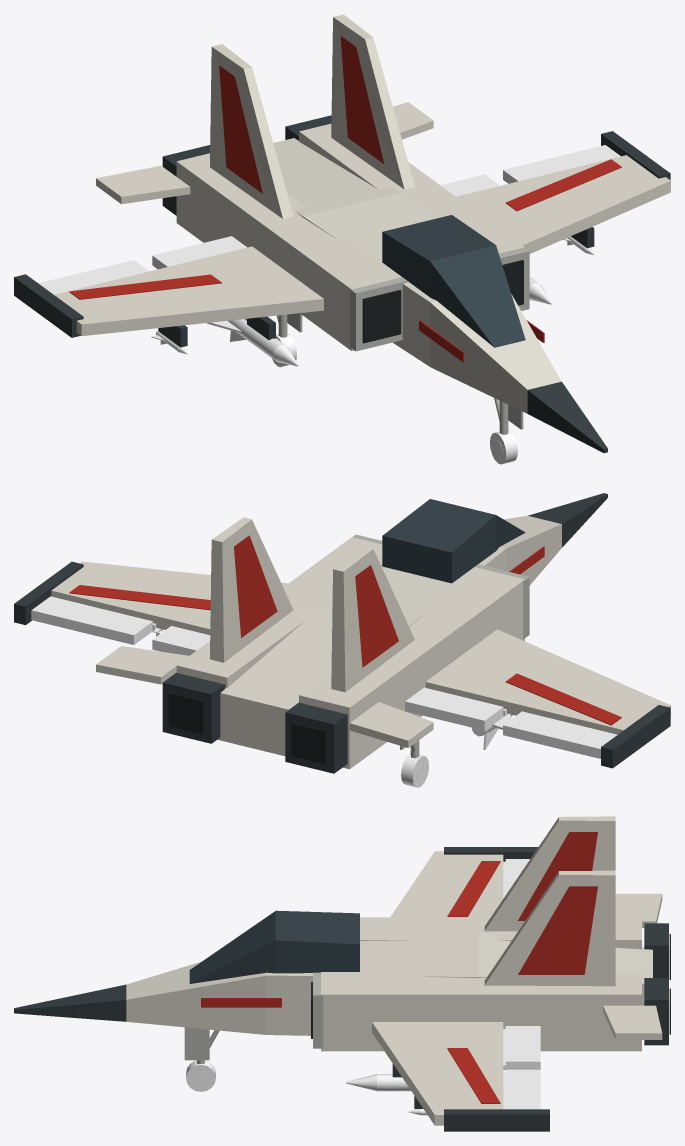
3 renders of one model, top to bottom at view 1: azimuth 30°, elevation 25°; view 2: azimuth 150°, elevation 25°; view 3: azimuth 270°, elevation 25°, orthographic. The views are drawn at different scales.
Parts seen in each view (by area): view 1: jet-a-fleet-armor, jet-a-fleet-glass, jet-a-fleet-red, jet-a-fleet-machine, jet-a-fleet-rubber, elevator-left-fleet-armor, jet-a-fleet-edge, aileron-right-painted, aileron-left-painted, flap-left-painted, store-left-large-painted, elevator-right-fleet-armor (+2 smaller); view 2: jet-a-fleet-armor, jet-a-fleet-machine, jet-a-fleet-red, jet-a-fleet-glass, aileron-right-painted, aileron-left-painted, flap-left-painted, jet-a-fleet-rubber, elevator-left-fleet-armor, elevator-right-fleet-armor, flap-right-painted, jet-a-fleet-edge (+1 smaller); view 3: jet-a-fleet-armor, jet-a-fleet-red, jet-a-fleet-glass, jet-a-fleet-machine, elevator-right-fleet-armor, flap-right-painted, aileron-right-painted, elevator-left-fleet-armor, landing-gear-nose-fleet-edge, store-right-large-painted, jet-a-fleet-edge, gear-wheel-nose-0-0-painted (+1 smaller).
Boxes of the visible parts, box(x1,y1,x2,y2) form: jet-a-fleet-armor: box(54, 14, 670, 413); jet-a-fleet-glass: box(382, 215, 525, 347); jet-a-fleet-red: box(69, 36, 621, 362); jet-a-fleet-machine: box(14, 115, 670, 453); jet-a-fleet-rubber: box(362, 260, 523, 343); elevator-left-fleet-armor: box(96, 165, 190, 204); jet-a-fleet-edge: box(350, 248, 529, 351); aileron-right-painted: box(503, 145, 620, 183); aileron-left-painted: box(38, 260, 149, 294); flap-left-painted: box(152, 236, 246, 269); store-left-large-painted: box(207, 318, 298, 366); elevator-right-fleet-armor: box(393, 102, 433, 139); jet-a-fleet-armor: box(51, 515, 670, 769); jet-a-fleet-machine: box(14, 493, 670, 773); jet-a-fleet-red: box(69, 535, 621, 725); jet-a-fleet-glass: box(382, 499, 525, 583); aileron-right-painted: box(31, 596, 156, 644); aileron-left-painted: box(503, 711, 617, 758); flap-left-painted: box(405, 687, 506, 730); jet-a-fleet-rubber: box(168, 692, 326, 764); elevator-left-fleet-armor: box(350, 702, 433, 747); elevator-right-fleet-armor: box(96, 646, 188, 684); flap-right-painted: box(152, 626, 210, 655); jet-a-fleet-edge: box(352, 534, 529, 638); jet-a-fleet-armor: box(126, 816, 652, 1125); jet-a-fleet-red: box(201, 832, 597, 1103); jet-a-fleet-glass: box(189, 910, 359, 983); jet-a-fleet-machine: box(14, 847, 668, 1131); elevator-right-fleet-armor: box(603, 1005, 662, 1039); flap-right-painted: box(503, 1026, 540, 1070); aileron-right-painted: box(503, 1069, 540, 1109); elevator-left-fleet-armor: box(615, 893, 662, 927); landing-gear-nose-fleet-edge: box(184, 1027, 219, 1063); store-right-large-painted: box(346, 1074, 410, 1091); jet-a-fleet-edge: box(313, 972, 323, 1048); gear-wheel-nose-0-0-painted: box(186, 1060, 215, 1091).
Size of the model in its own units: 59.87 by 25.4 by 62.11.
